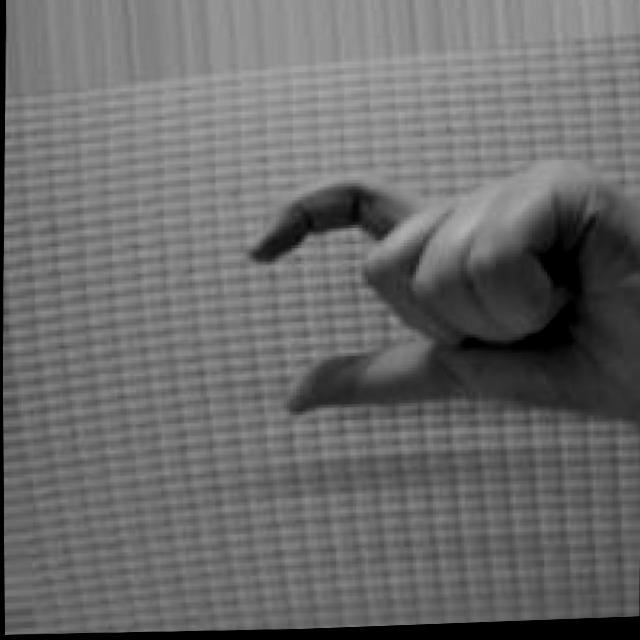C: (239, 150, 640, 425)
